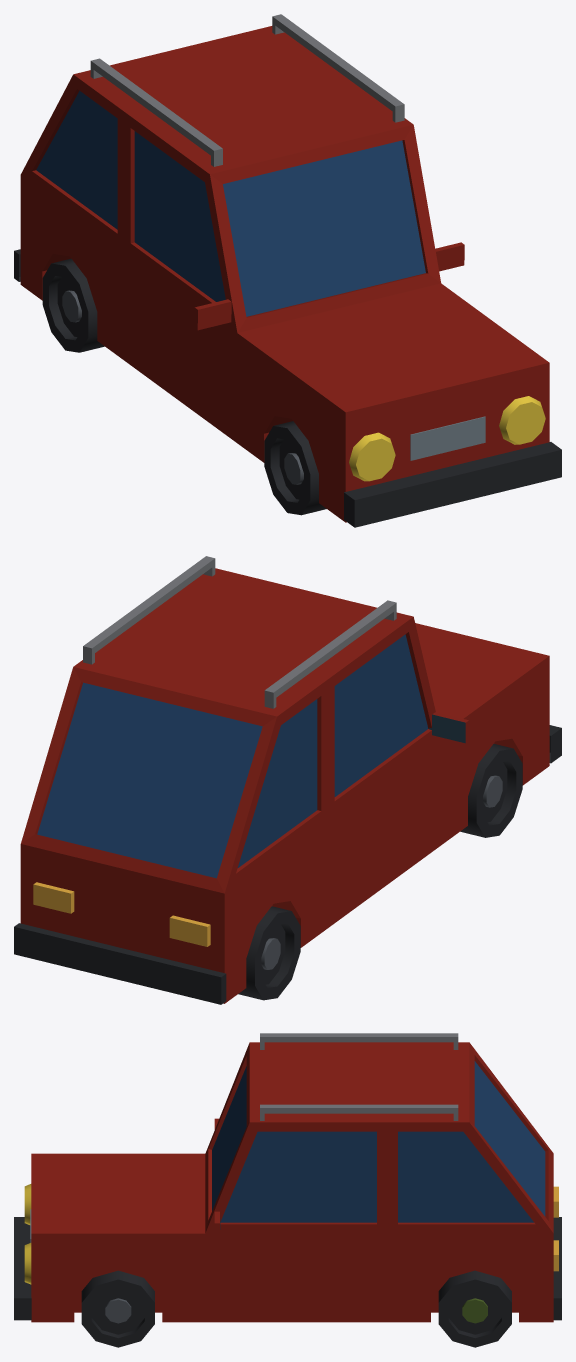
Rendered from Car_2.fbx.
3 renders of one model, top to bottom at view 1: azimuth 30°, elevation 25°; view 2: azimuth 150°, elevation 25°; view 3: azimuth 270°, elevation 25°, orthographic. The views are drawn at different scales.
Parts seen in each view (by area): view 1: Car_2; view 2: Car_2; view 3: Car_2.
Boxes of the visible parts, <box> form: Car_2: <box>14,14,561,527</box>; Car_2: <box>14,556,561,1004</box>; Car_2: <box>14,1033,561,1347</box>.
Size of the model in its own units: 154 by 162 by 340.
